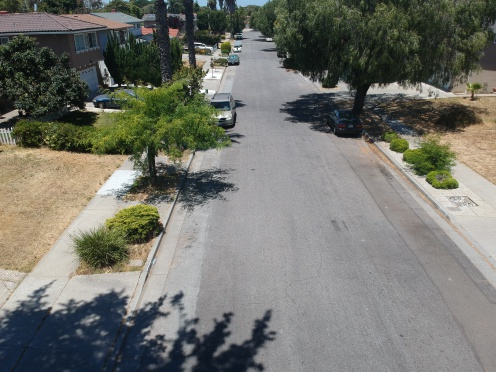bottle: (149, 253, 162, 270)
